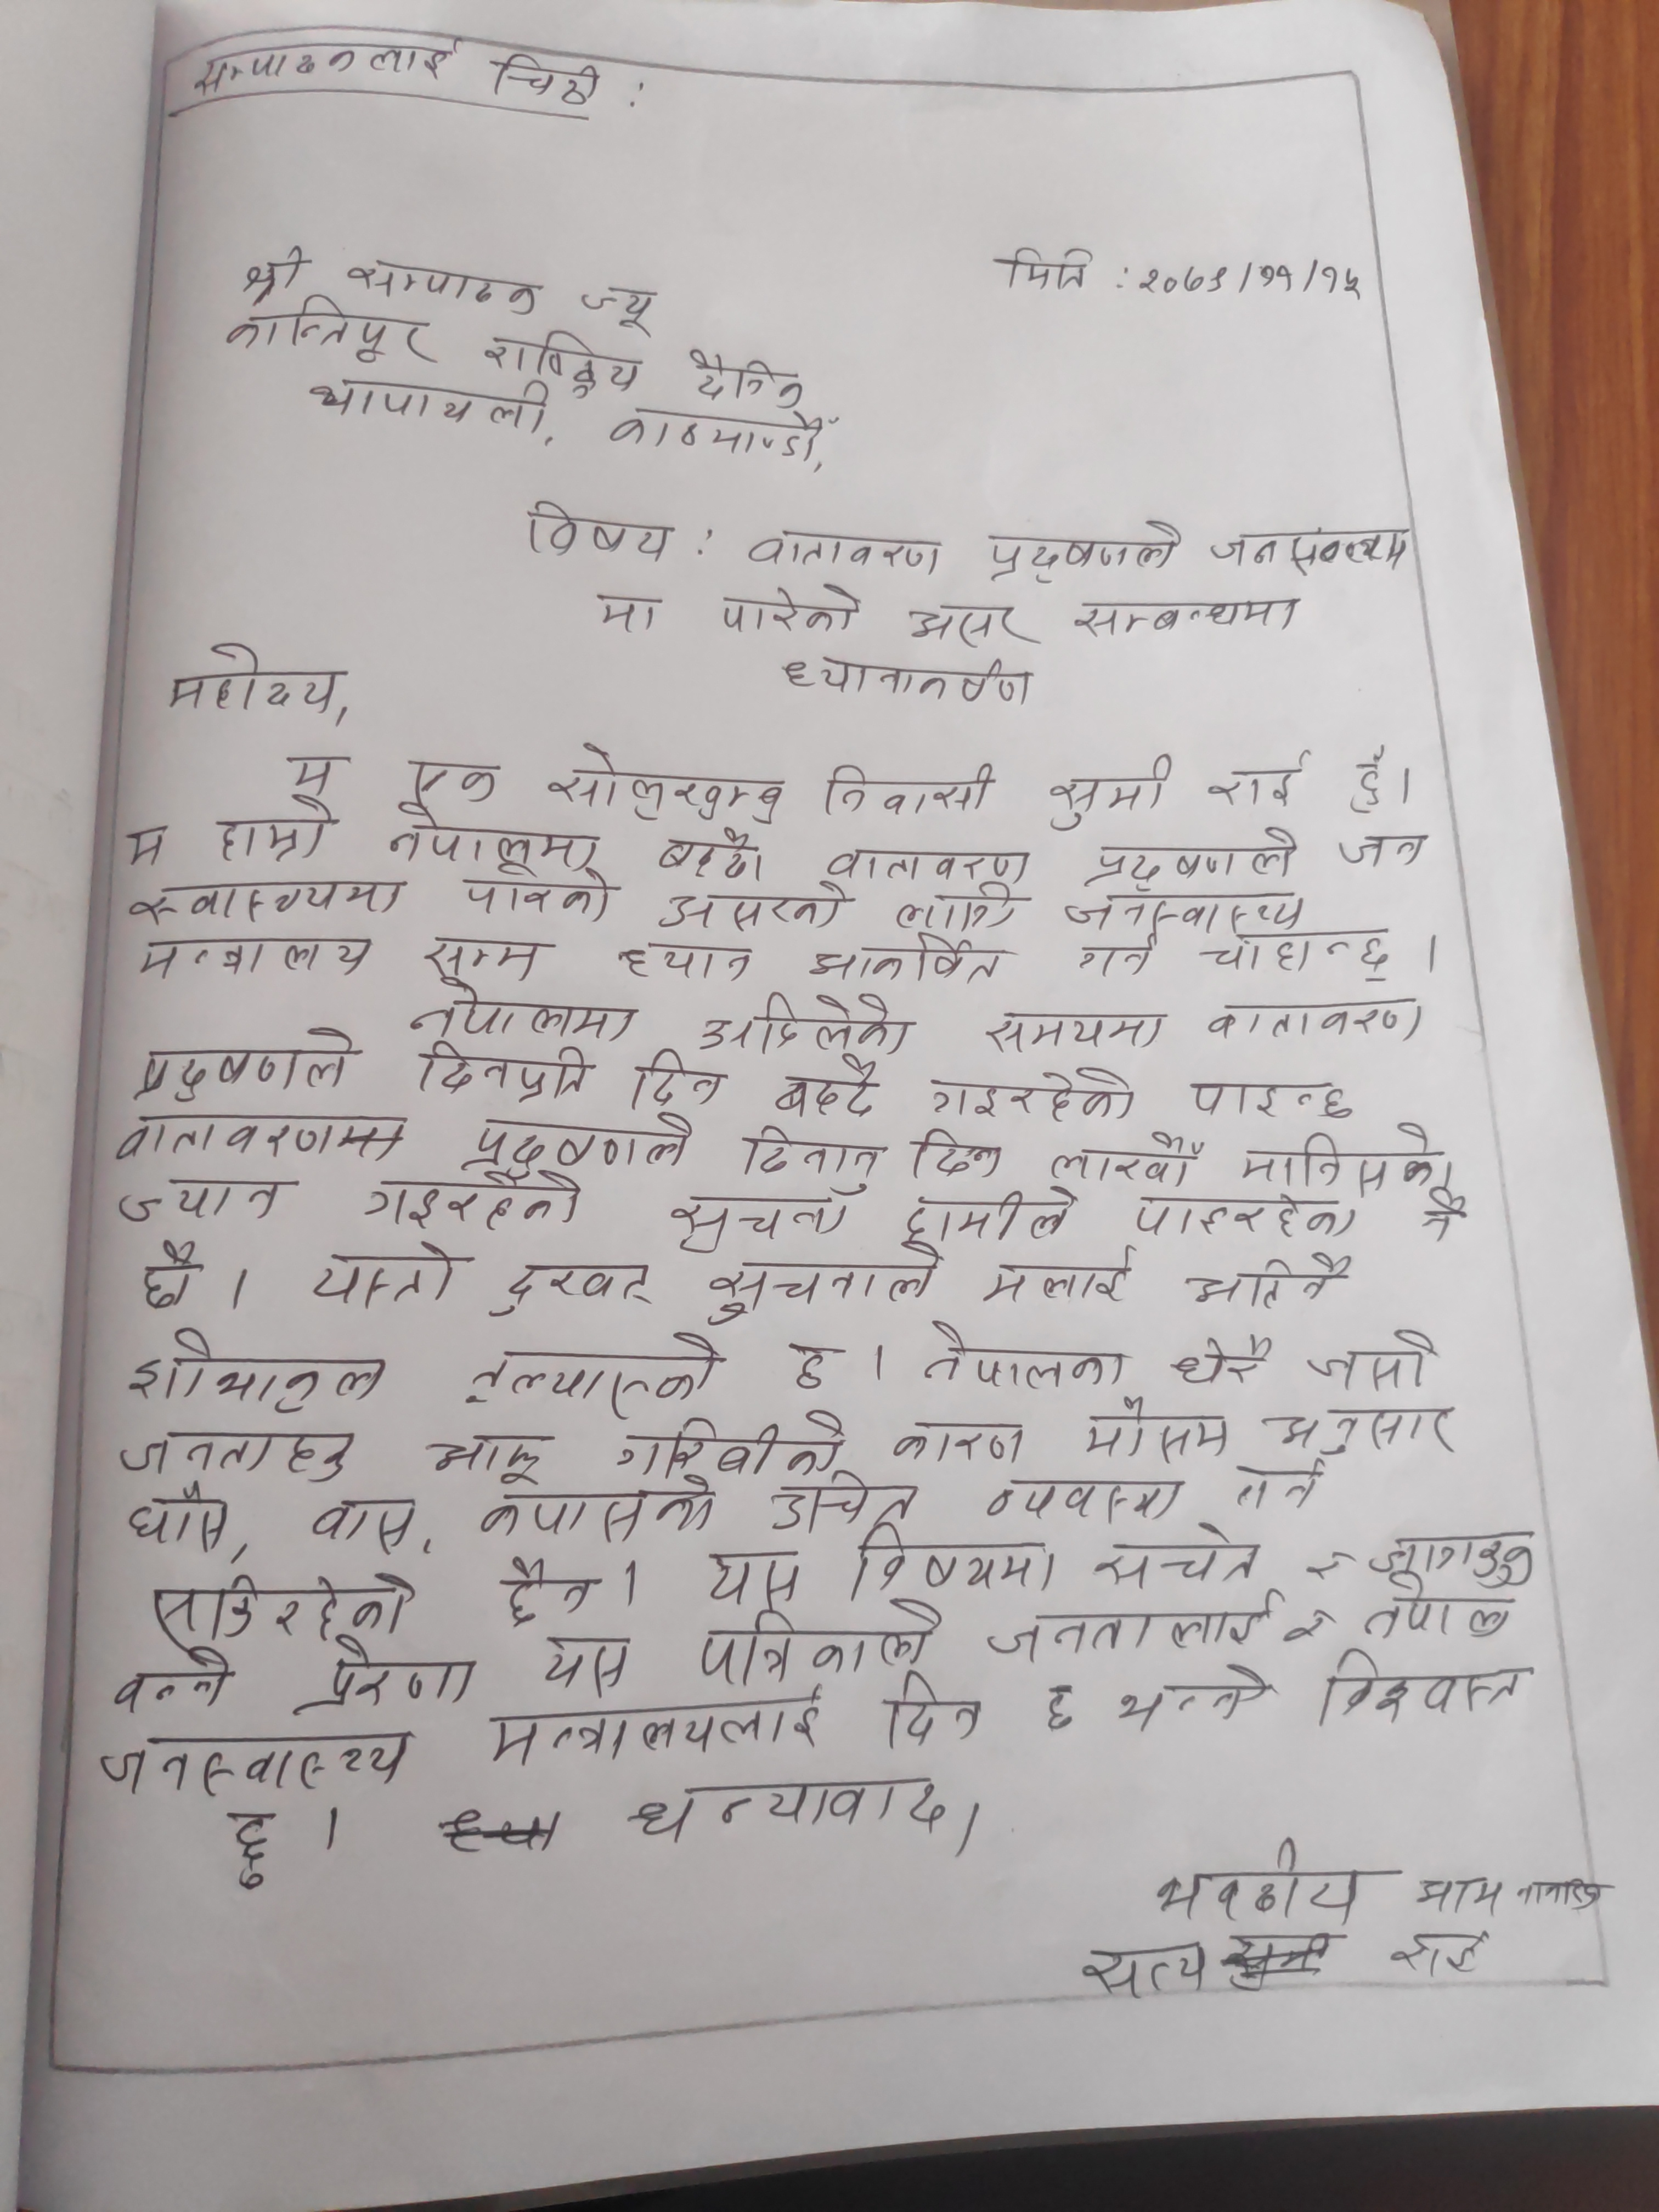text: (624, 1775, 950, 1855), (465, 1327, 723, 1421), (125, 1331, 390, 1418), (476, 1700, 833, 1763), (136, 1568, 418, 1646), (96, 1726, 416, 1794), (542, 745, 791, 829), (1154, 1838, 1380, 1926), (131, 1021, 361, 1103), (685, 1604, 932, 1679), (301, 368, 552, 435), (983, 1602, 1279, 1660), (772, 648, 1049, 709), (476, 1475, 720, 1543), (289, 1639, 477, 1723), (697, 1261, 945, 1324), (690, 993, 918, 1061), (160, 637, 347, 719), (849, 1529, 1065, 1599), (192, 37, 453, 94), (408, 977, 634, 1043), (1310, 1656, 1530, 1724), (110, 1116, 425, 1163), (361, 1170, 591, 1235), (596, 401, 831, 463), (981, 517, 1185, 589), (462, 1109, 699, 1170), (1124, 1190, 1363, 1249), (1241, 1125, 1443, 1195), (382, 808, 596, 873), (965, 1465, 1183, 1527), (113, 1426, 356, 1482), (917, 1331, 1131, 1393), (1077, 829, 1300, 888), (308, 1238, 465, 1318), (131, 934, 387, 982), (1060, 583, 1298, 636), (918, 1066, 1141, 1122), (228, 307, 437, 366), (664, 1190, 849, 1256), (612, 1420, 845, 1472), (345, 254, 551, 314), (1087, 1524, 1270, 1590), (523, 493, 676, 571), (1359, 1576, 1525, 1648), (904, 1186, 1080, 1252), (477, 320, 652, 387), (821, 759, 1002, 822), (127, 881, 410, 921), (112, 1170, 291, 1233), (732, 1123, 889, 1195), (803, 934, 1004, 989), (410, 1042, 598, 1101), (1258, 1402, 1464, 1456), (486, 1256, 657, 1320), (1373, 1527, 1542, 1592), (1204, 524, 1419, 575), (967, 1005, 1166, 1059), (1110, 1669, 1276, 1733), (1204, 995, 1429, 1042), (1060, 888, 1312, 930), (1042, 756, 1178, 833), (1199, 932, 1398, 984), (451, 867, 626, 927), (1180, 1251, 1354, 1310), (1046, 1130, 1215, 1191), (660, 881, 854, 934), (824, 836, 1032, 883), (1077, 1937, 1218, 2005), (1073, 1406, 1234, 1465), (746, 526, 946, 573), (1176, 1071, 1356, 1123), (488, 1555, 606, 1634), (99, 1656, 251, 1714), (760, 1479, 918, 1533), (875, 1674, 992, 1747), (713, 585, 875, 637), (685, 347, 819, 409), (981, 1256, 1129, 1312), (119, 1487, 246, 1552), (1305, 1331, 1443, 1390), (1134, 261, 1368, 296), (207, 798, 335, 860), (418, 927, 545, 988), (770, 1055, 896, 1116), (481, 51, 610, 110), (884, 883, 1032, 934), (648, 822, 774, 881), (427, 1430, 552, 1489), (617, 944, 765, 993), (307, 1493, 429, 1550), (1384, 1926, 1499, 1987), (538, 1634, 640, 1700), (1202, 751, 1309, 813), (701, 1547, 807, 1608), (903, 599, 1033, 648), (885, 1418, 1032, 1460), (1159, 1339, 1279, 1390), (622, 1055, 737, 1108), (1227, 1463, 1335, 1517), (896, 1129, 1004, 1181), (999, 237, 1091, 293), (404, 752, 498, 806), (223, 1808, 274, 1904), (1419, 1865, 1504, 1921), (141, 1244, 202, 1320), (1337, 826, 1431, 873), (577, 284, 664, 333), (1075, 932, 1162, 981), (1345, 747, 1403, 820), (235, 249, 315, 300), (1513, 1876, 1614, 1916), (1412, 1195, 1476, 1256), (1279, 1592, 1335, 1656), (782, 1339, 840, 1395), (591, 592, 664, 634), (1300, 1536, 1351, 1592), (1033, 1677, 1082, 1735), (281, 752, 350, 792), (124, 817, 176, 869)
